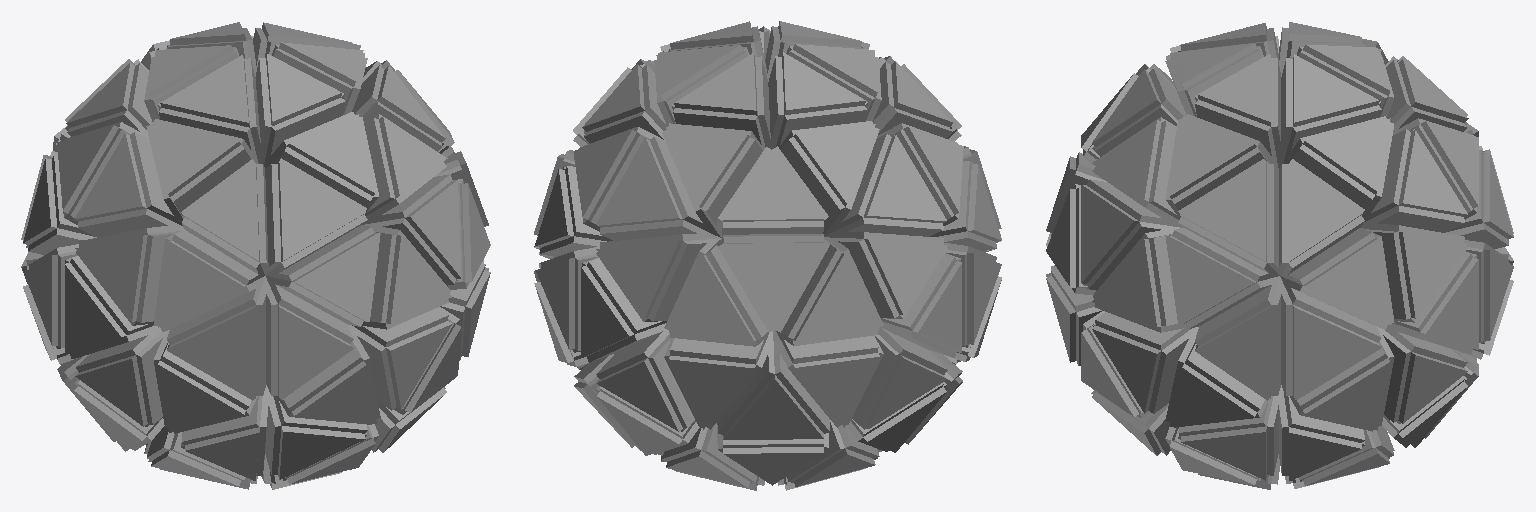
File: UberBall.obj
3 renders of one model, left to right at view 1: azimuth 30°, elevation 25°; view 2: azimuth 150°, elevation 25°; view 3: azimuth 270°, elevation 25°, orthographic.
Parts seen in each view (by area): view 1: Sphere; view 2: Sphere; view 3: Sphere.
Part boxes in pixels (x1,y1,x2,y2): Sphere: (21, 22, 490, 489); Sphere: (534, 21, 1001, 490); Sphere: (1046, 22, 1513, 489).
Bounding box in the file's own units: 2.82 × 2.87 × 2.87.